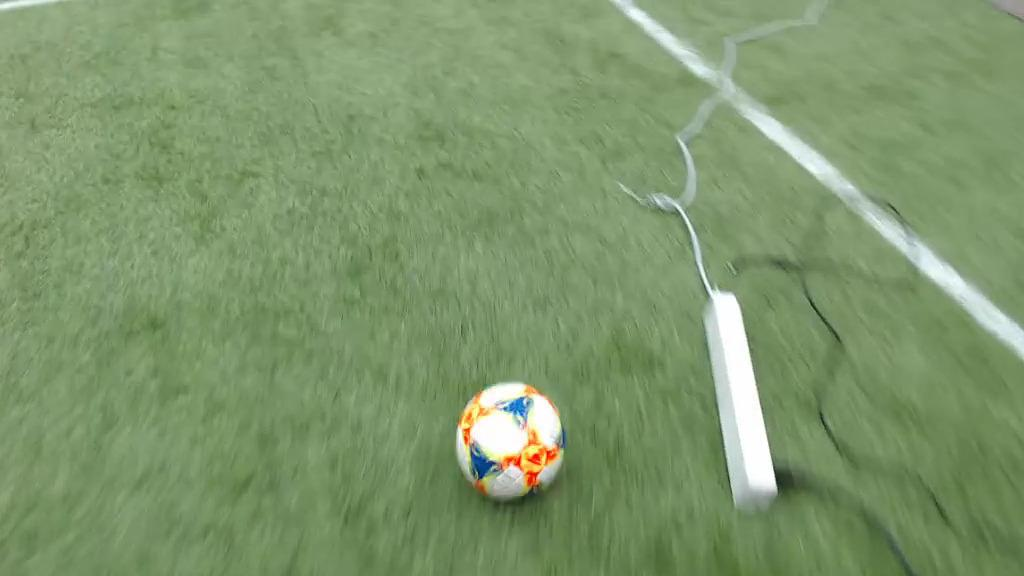ball: (458, 381, 565, 503)
